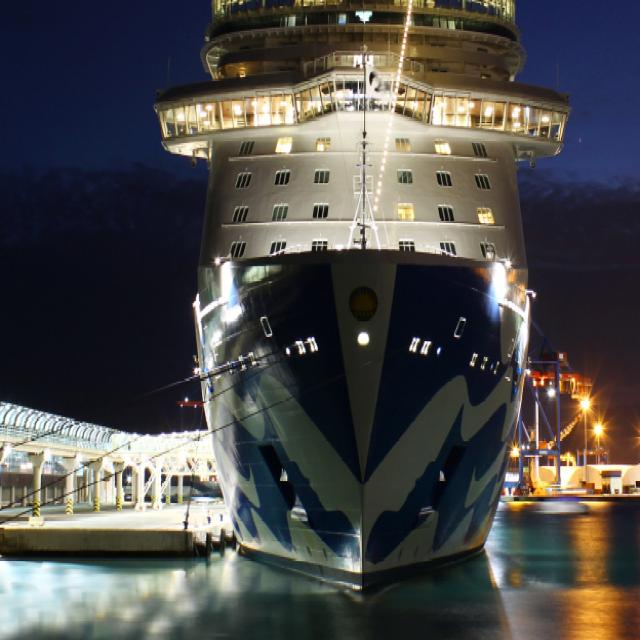cruises: (134, 1, 582, 596)
